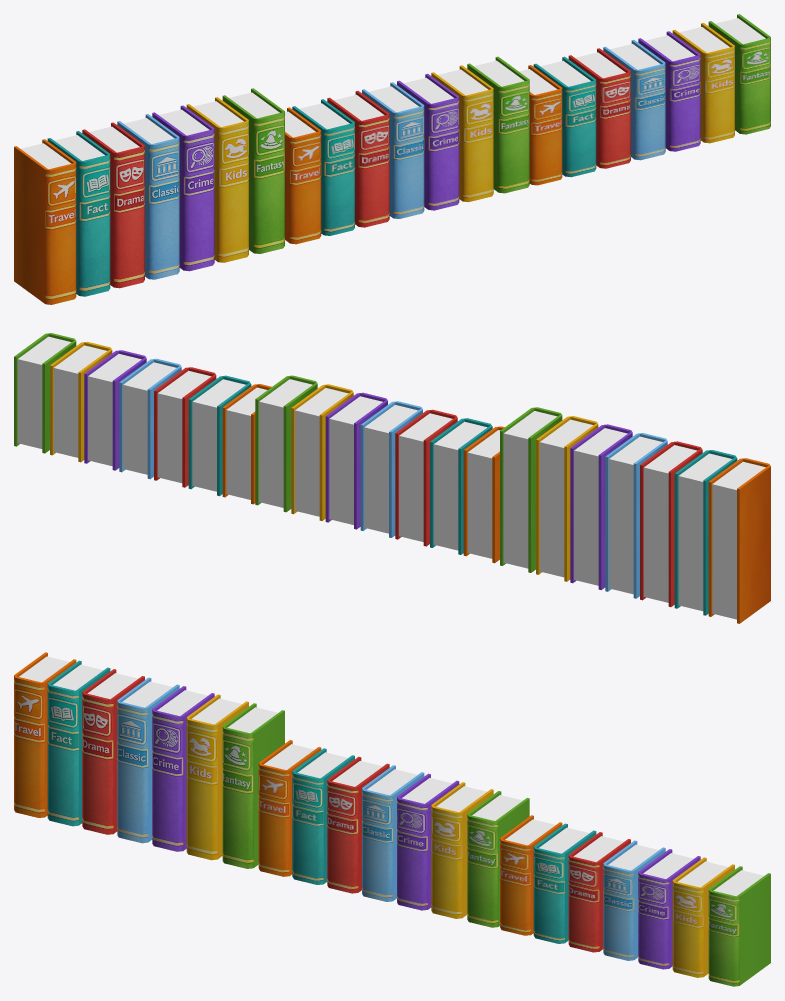
File: Words on the Waves_sach.fbx
3 views of the same model, one above another, from view 1: azimuth 30°, elevation 25°; view 2: azimuth 150°, elevation 25°; view 3: azimuth 330°, elevation 25° (orthographic).
Parts seen in each view (by area): view 1: Sach.007, Sach.013, Sach.011, Sach.010, Sach.009, Sach.012, Sach.008, Sach.020, Sach.018, Sach.017, Sach.016, Sach.019 (+9 smaller); view 2: Sach.007, Sach.013, Sach.011, Sach.010, Sach.009, Sach.012, Sach.008, Sach.020, Sach.018, Sach.017, Sach.016, Sach.019 (+9 smaller); view 3: Sach.013, Sach.006, Sach.012, Sach.010, Sach.008, Sach.009, Sach.011, Sach.007, Sach.019, Sach.020, Sach.015, Sach.017 (+9 smaller).
Boxes of the visible parts, box(x1,y1,x2,y2) form: Sach.007: box(14, 139, 76, 304); Sach.013: box(222, 88, 284, 253); Sach.011: box(152, 105, 214, 271); Sach.010: box(117, 114, 179, 279); Sach.009: box(82, 122, 144, 288); Sach.012: box(186, 97, 248, 262); Sach.008: box(47, 131, 110, 296); Sach.020: box(467, 56, 529, 193); Sach.018: box(397, 73, 459, 210); Sach.017: box(362, 82, 424, 218); Sach.016: box(327, 91, 389, 227); Sach.019: box(431, 65, 493, 202); Sach.007: box(708, 458, 770, 623); Sach.013: box(500, 407, 562, 572); Sach.011: box(570, 424, 632, 590); Sach.010: box(605, 433, 667, 598); Sach.009: box(640, 441, 702, 606); Sach.012: box(536, 416, 598, 581); Sach.008: box(674, 450, 737, 615); Sach.020: box(255, 375, 317, 512); Sach.018: box(325, 392, 387, 529); Sach.017: box(360, 401, 422, 537); Sach.016: box(395, 409, 457, 546); Sach.019: box(291, 384, 353, 520); Sach.013: box(222, 703, 284, 868); Sach.006: box(708, 866, 770, 986); Sach.012: box(186, 694, 248, 860); Sach.010: box(117, 677, 179, 843); Sach.008: box(47, 660, 110, 826); Sach.009: box(82, 669, 144, 834); Sach.011: box(152, 686, 214, 851); Sach.007: box(14, 652, 76, 817); Sach.019: box(431, 782, 493, 918); Sach.020: box(467, 791, 529, 927); Sach.015: box(292, 748, 354, 884); Sach.017: box(362, 765, 424, 901).
Bounding box in the file's own units: 2.4 × 0.4263 × 0.1931.
1 material, 1 textured.
